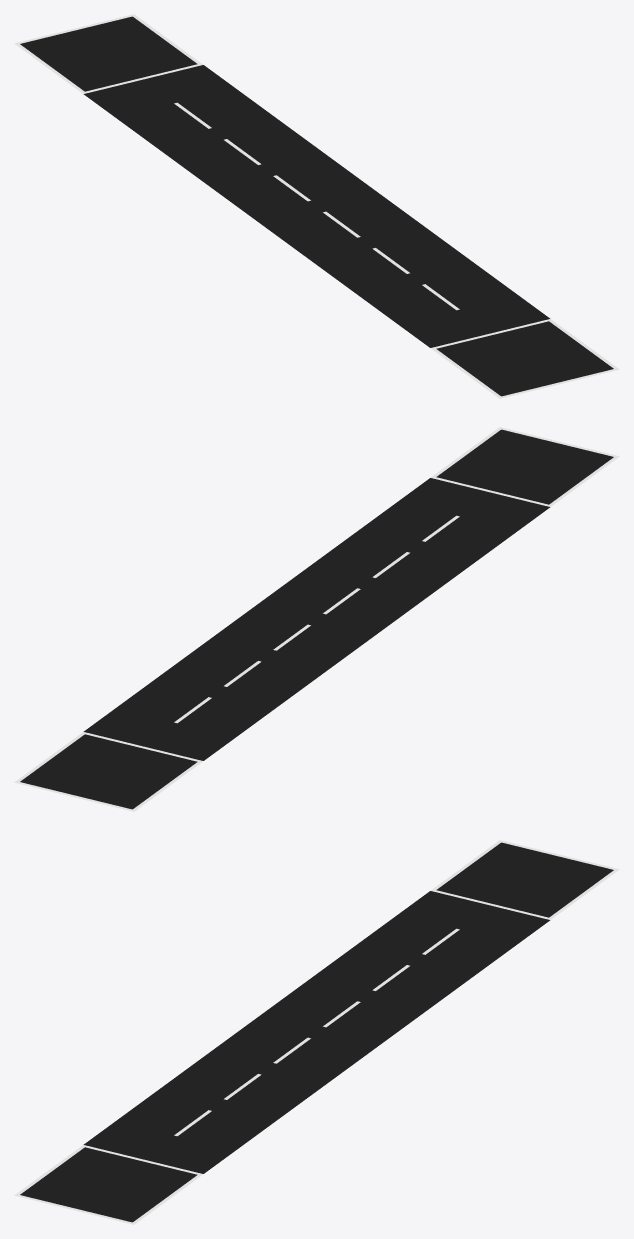
The model's file is Asphalt_01.fbx.
3 views of the same model, one above another, from view 1: azimuth 30°, elevation 25°; view 2: azimuth 150°, elevation 25°; view 3: azimuth 330°, elevation 25° (orthographic).
Parts seen in each view (by area): view 1: Asphalt1; view 2: Asphalt1; view 3: Asphalt1.
Part boxes in pixels (box(x1,y1,x2,y2)): Asphalt1: box(14, 14, 619, 398); Asphalt1: box(14, 427, 619, 811); Asphalt1: box(14, 840, 619, 1224).
Size of the model in its own units: 10 by 1.67e-16 by 70.
Materials: 1 (1 with a texture image).
